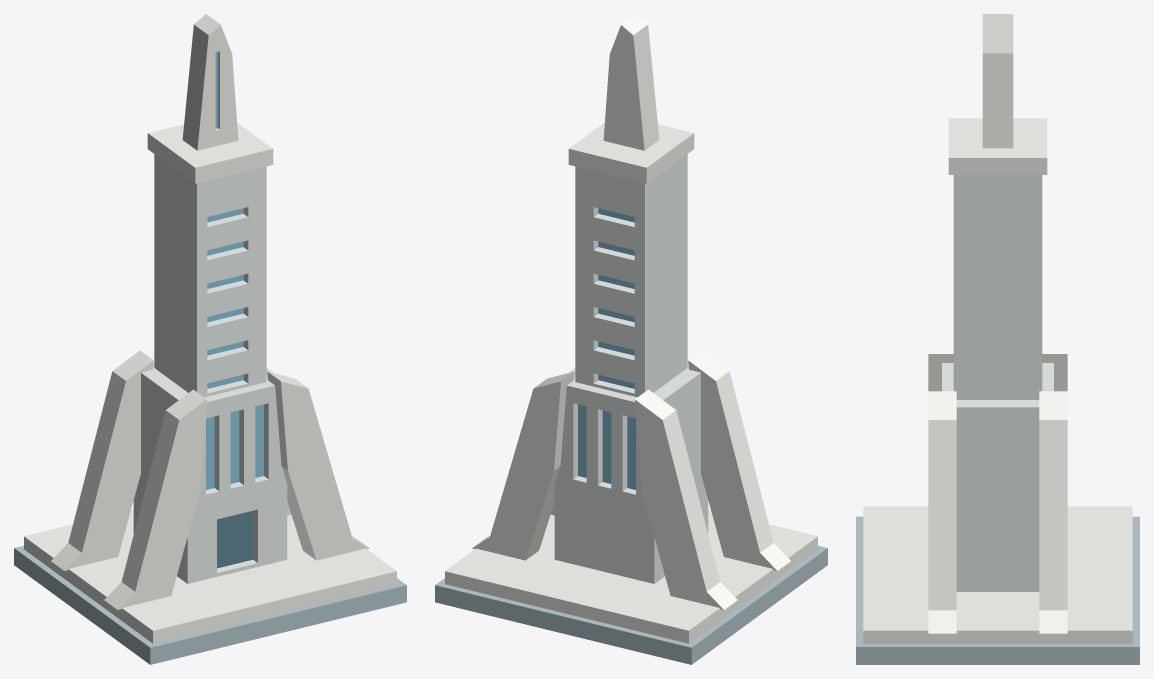
Rendered from 04_antenna_spire.glb.
The picture shows the model from 3 angles, left to right: view 1: azimuth 30°, elevation 25°; view 2: azimuth 150°, elevation 25°; view 3: azimuth 270°, elevation 25°; orthographic projection. The views are drawn at different scales.
Visible parts, largest first — view 1: splayed_leg (×3), upper_shaft, plinth, lower_core, foundation, antenna_fin, shaft_cap, inset_glass (×3), inset_backing; view 2: splayed_leg (×3), upper_shaft, plinth, lower_core, foundation, antenna_fin, shaft_cap, inset_glass (×3); view 3: plinth, upper_shaft, lower_core, splayed_leg (×4), foundation, shaft_cap, antenna_fin.
Boxes of the visible parts, x1=… form: splayed_leg (×3): x1=51, y1=350, x2=369, y2=609; upper_shaft: x1=154, y1=154, x2=266, y2=397; plinth: x1=24, y1=509, x2=396, y2=643; lower_core: x1=133, y1=362, x2=287, y2=583; foundation: x1=14, y1=545, x2=406, y2=664; antenna_fin: x1=182, y1=14, x2=238, y2=150; shaft_cap: x1=147, y1=122, x2=273, y2=183; inset_glass (×3): x1=206, y1=404, x2=263, y2=489; inset_backing: x1=217, y1=510, x2=253, y2=568; splayed_leg (×3): x1=472, y1=350, x2=790, y2=609; upper_shaft: x1=575, y1=154, x2=687, y2=397; plinth: x1=445, y1=509, x2=817, y2=643; lower_core: x1=554, y1=362, x2=708, y2=583; foundation: x1=435, y1=545, x2=827, y2=664; antenna_fin: x1=603, y1=14, x2=659, y2=150; shaft_cap: x1=568, y1=122, x2=694, y2=183; inset_glass (×3): x1=578, y1=404, x2=635, y2=489; plinth: x1=863, y1=506, x2=1132, y2=643; upper_shaft: x1=953, y1=175, x2=1042, y2=399; lower_core: x1=942, y1=363, x2=1053, y2=591; splayed_leg (×4): x1=928, y1=354, x2=1067, y2=633; foundation: x1=856, y1=516, x2=1139, y2=664; shaft_cap: x1=948, y1=118, x2=1047, y2=174; antenna_fin: x1=982, y1=14, x2=1013, y2=148.
Bounding box in the file's own units: 2.5 × 5.25 × 2.3.
